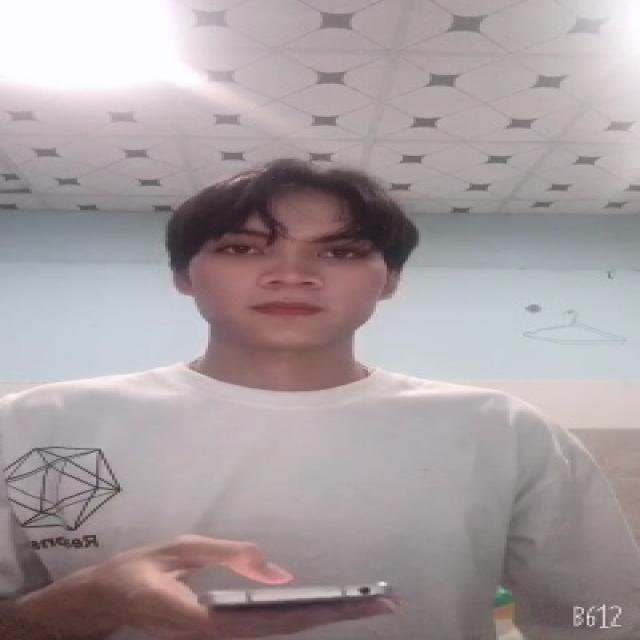Phone: (202, 576, 395, 617)
